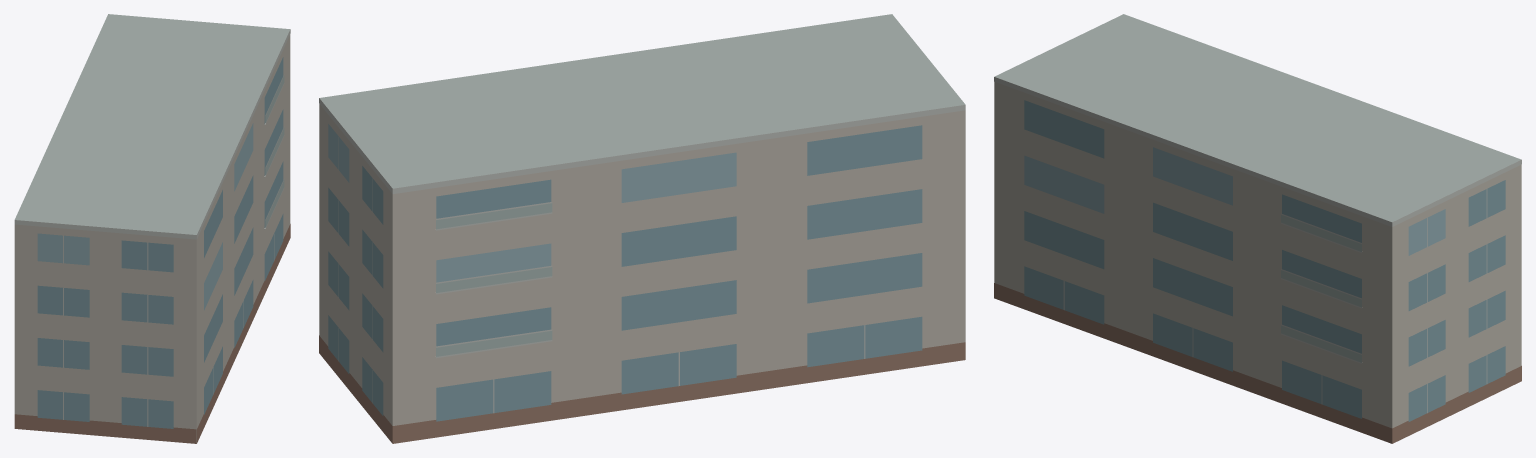
File: survey-upis-32881847.glb
3 views of the same model, side by side, from view 1: azimuth 30°, elevation 25°; view 2: azimuth 150°, elevation 25°; view 3: azimuth 270°, elevation 25° (orthographic). The views are drawn at different scales.
Visible parts, largest first — view 1: survey-upis-32881847.tmp; view 2: survey-upis-32881847.tmp; view 3: survey-upis-32881847.tmp.
Boxes of the visible parts, x1,y1,x2,y2 form: survey-upis-32881847.tmp: (14,14,290,443); survey-upis-32881847.tmp: (319,14,965,443); survey-upis-32881847.tmp: (994,14,1521,443).
Size of the model in its own units: 22.8 by 11.3 by 24.4.
